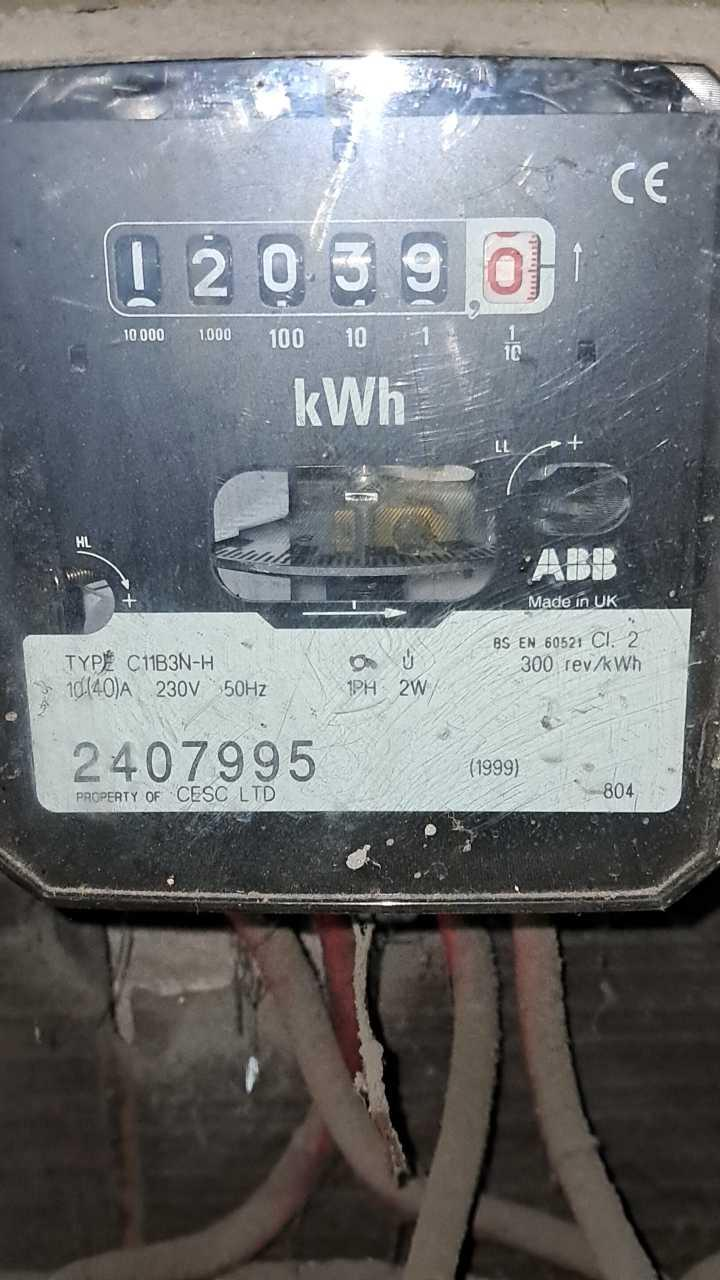meter_readings: (110, 229, 552, 308)
serial_number: (68, 736, 333, 784)
